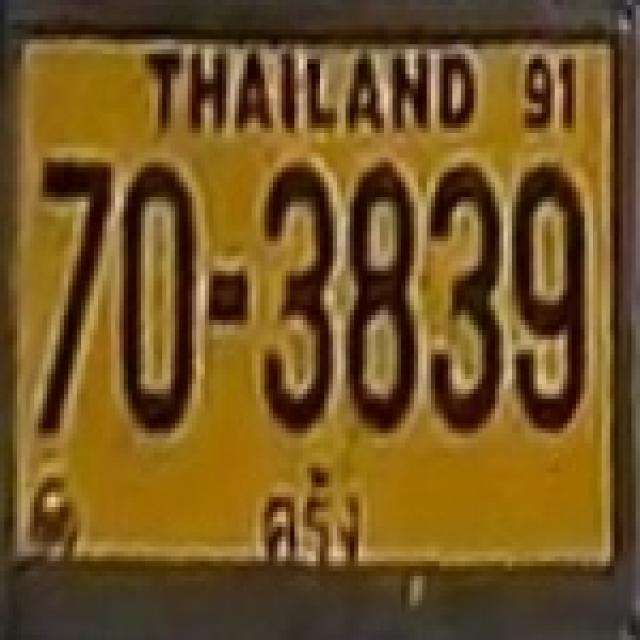0: (117, 158, 194, 418)
3: (260, 162, 333, 428), (427, 162, 499, 428)
7: (28, 155, 106, 443)
8: (341, 158, 414, 428)
9: (510, 157, 588, 436)
TRG: (240, 458, 377, 571)
